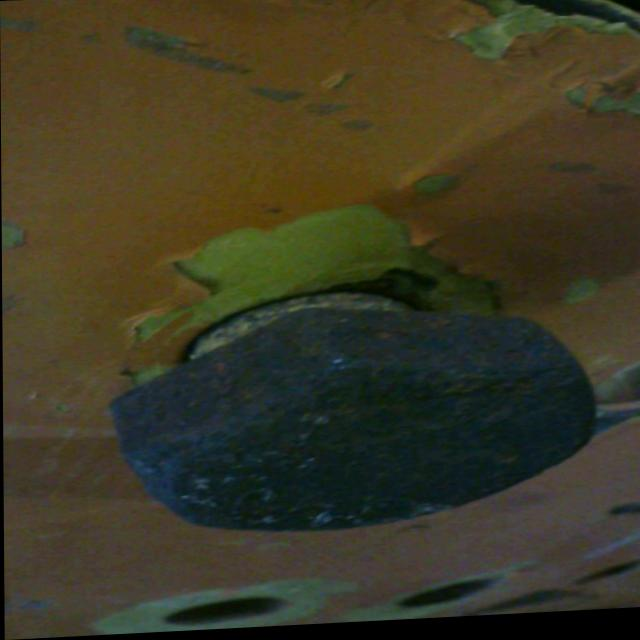Loose bolt: (107, 284, 592, 546)
Missing bolt: (156, 595, 292, 633), (391, 578, 503, 618), (578, 566, 640, 590)
Rusty bolt: (108, 290, 592, 543)
